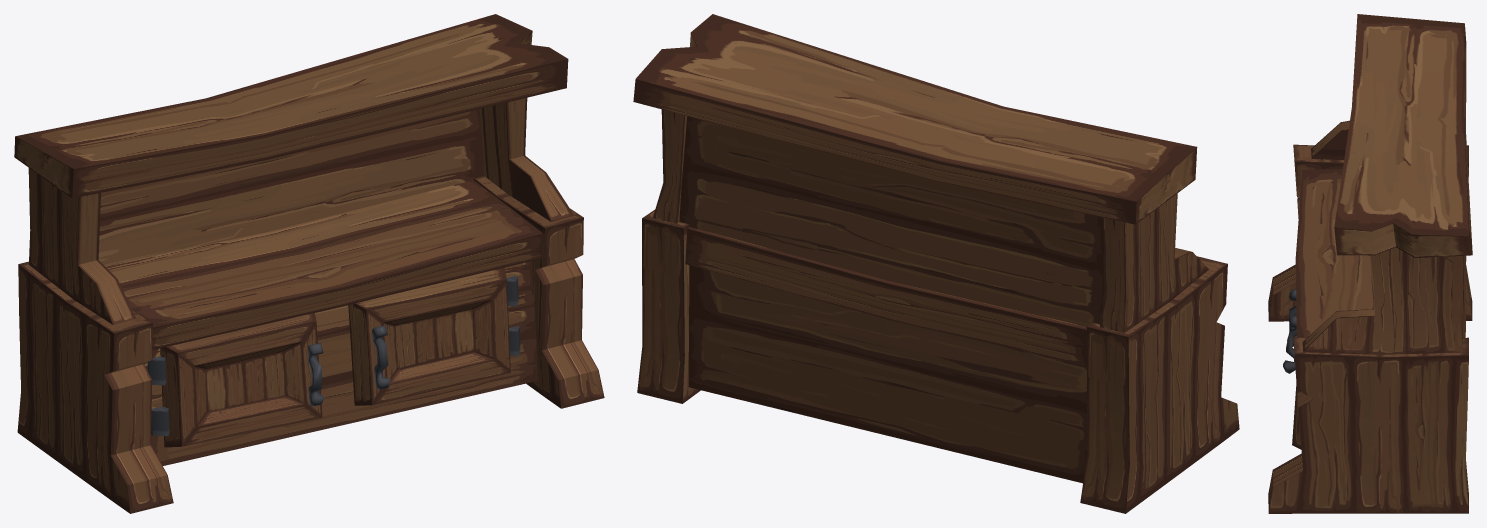
Rendered from SM_PROP_cabinet_interior_02.fbx.
3 views of the same model, side by side, from view 1: azimuth 30°, elevation 25°; view 2: azimuth 150°, elevation 25°; view 3: azimuth 270°, elevation 25° (orthographic). The views are drawn at different scales.
Parts seen in each view (by area): view 1: SM_PROP_cabinet_interior_02, SM_PROP_cabinet_drawer_02_interior_02, SM_PROP_cabinet_drawer_01_interior_02; view 2: SM_PROP_cabinet_interior_02; view 3: SM_PROP_cabinet_interior_02, SM_PROP_cabinet_drawer_02_interior_02.
Boxes of the visible parts, x1,y1,x2,y2 form: SM_PROP_cabinet_interior_02: (14, 14, 604, 513); SM_PROP_cabinet_drawer_02_interior_02: (348, 267, 510, 405); SM_PROP_cabinet_drawer_01_interior_02: (160, 313, 324, 447); SM_PROP_cabinet_interior_02: (633, 14, 1239, 513); SM_PROP_cabinet_interior_02: (1268, 14, 1472, 513); SM_PROP_cabinet_drawer_02_interior_02: (1283, 315, 1301, 449).
Size of the model in its own units: 202 by 124 by 80.16.
